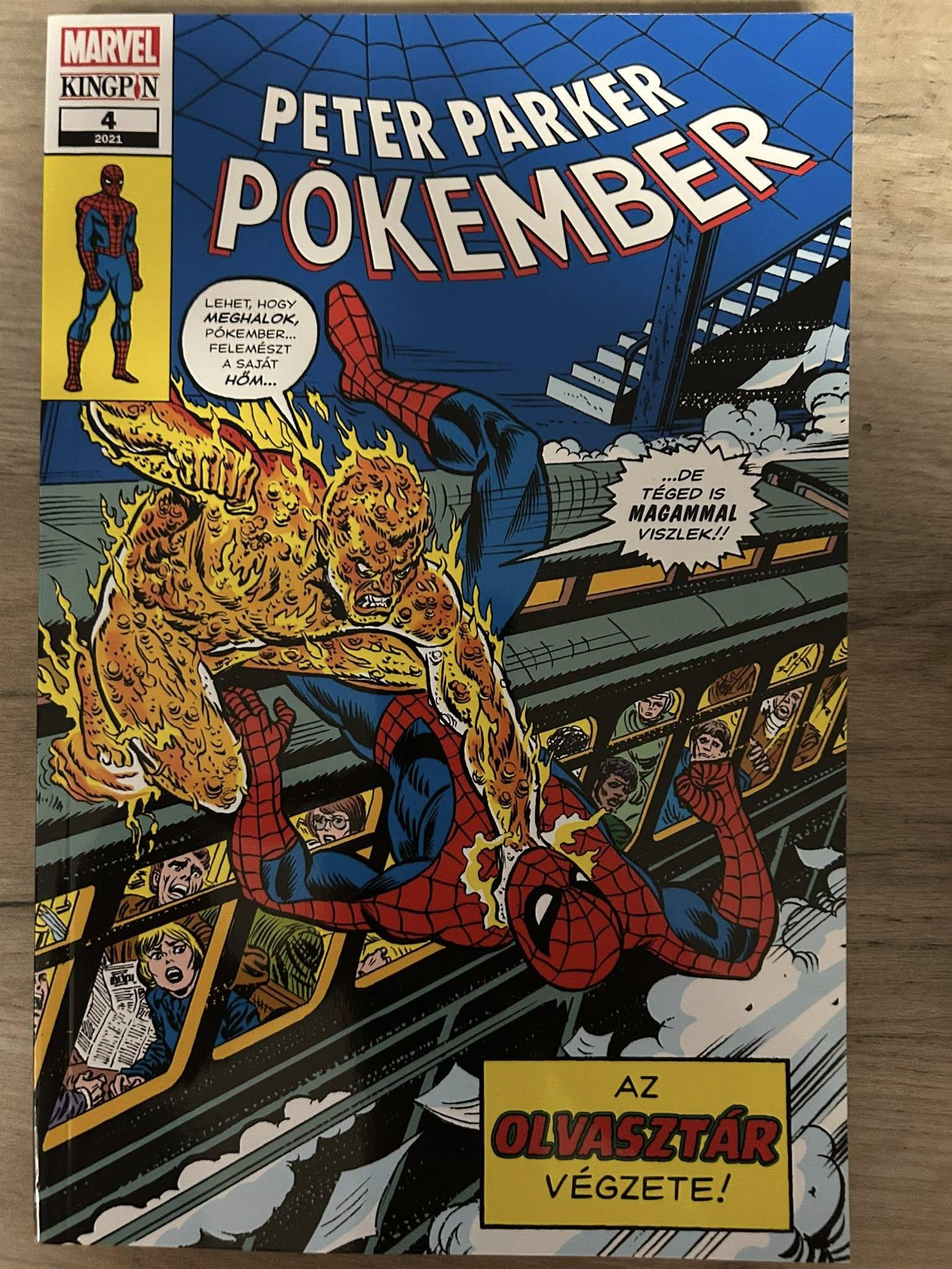comic: (32, 6, 859, 1261)
